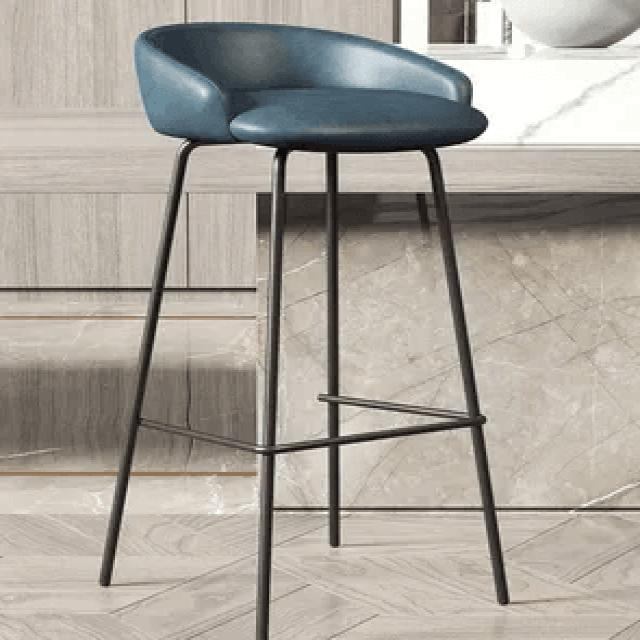chair: (93, 13, 513, 640), (136, 17, 489, 156)
